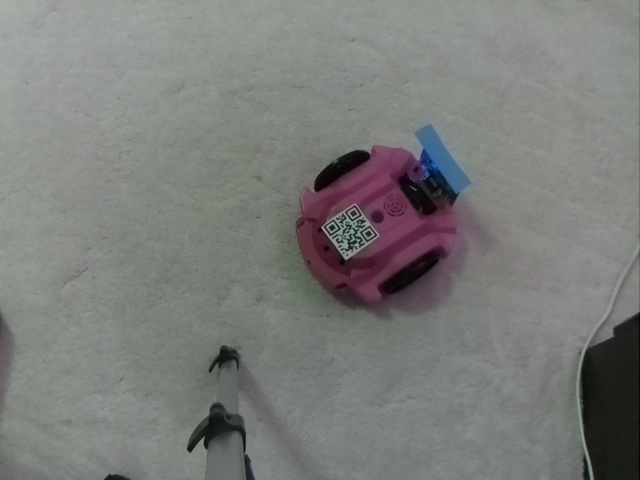chassis: (287, 121, 476, 308)
qr: (318, 201, 382, 259)
